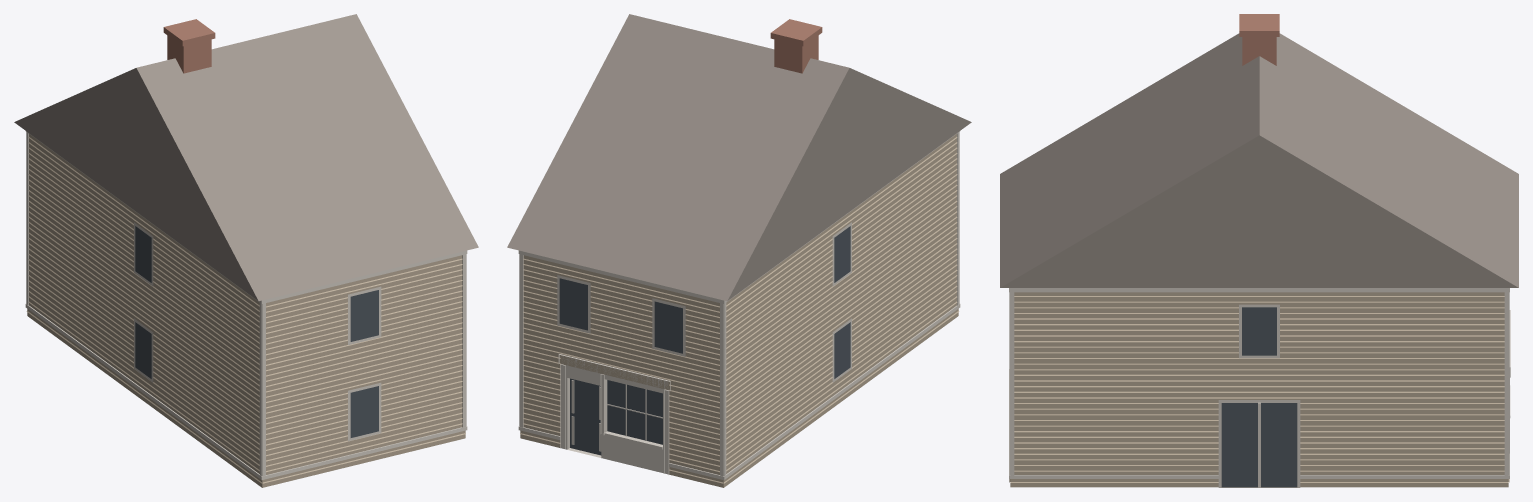
Rendered from john_holbrook_store__store_1835.glb.
The picture shows the model from 3 angles, left to right: view 1: azimuth 30°, elevation 25°; view 2: azimuth 150°, elevation 25°; view 3: azimuth 270°, elevation 25°; orthographic projection. The views are drawn at different scales.
Parts seen in each view (by area): view 1: john_holbrook_store__store_1835; view 2: john_holbrook_store__store_1835; view 3: john_holbrook_store__store_1835.
Boxes of the visible parts, x1,y1,x2,y2 form: john_holbrook_store__store_1835: [14, 14, 478, 487]; john_holbrook_store__store_1835: [507, 14, 971, 487]; john_holbrook_store__store_1835: [1000, 14, 1518, 487].
Size of the model in its own units: 6.6 by 10.33 by 12.69.
